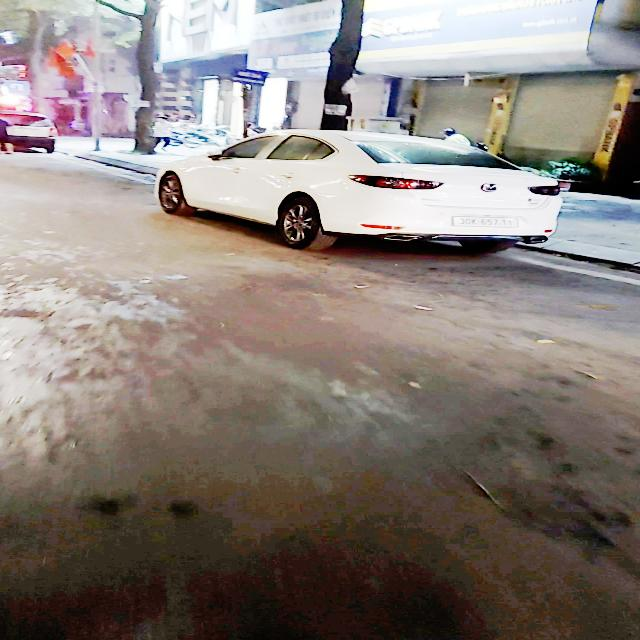license_plate: (449, 215, 521, 230)
